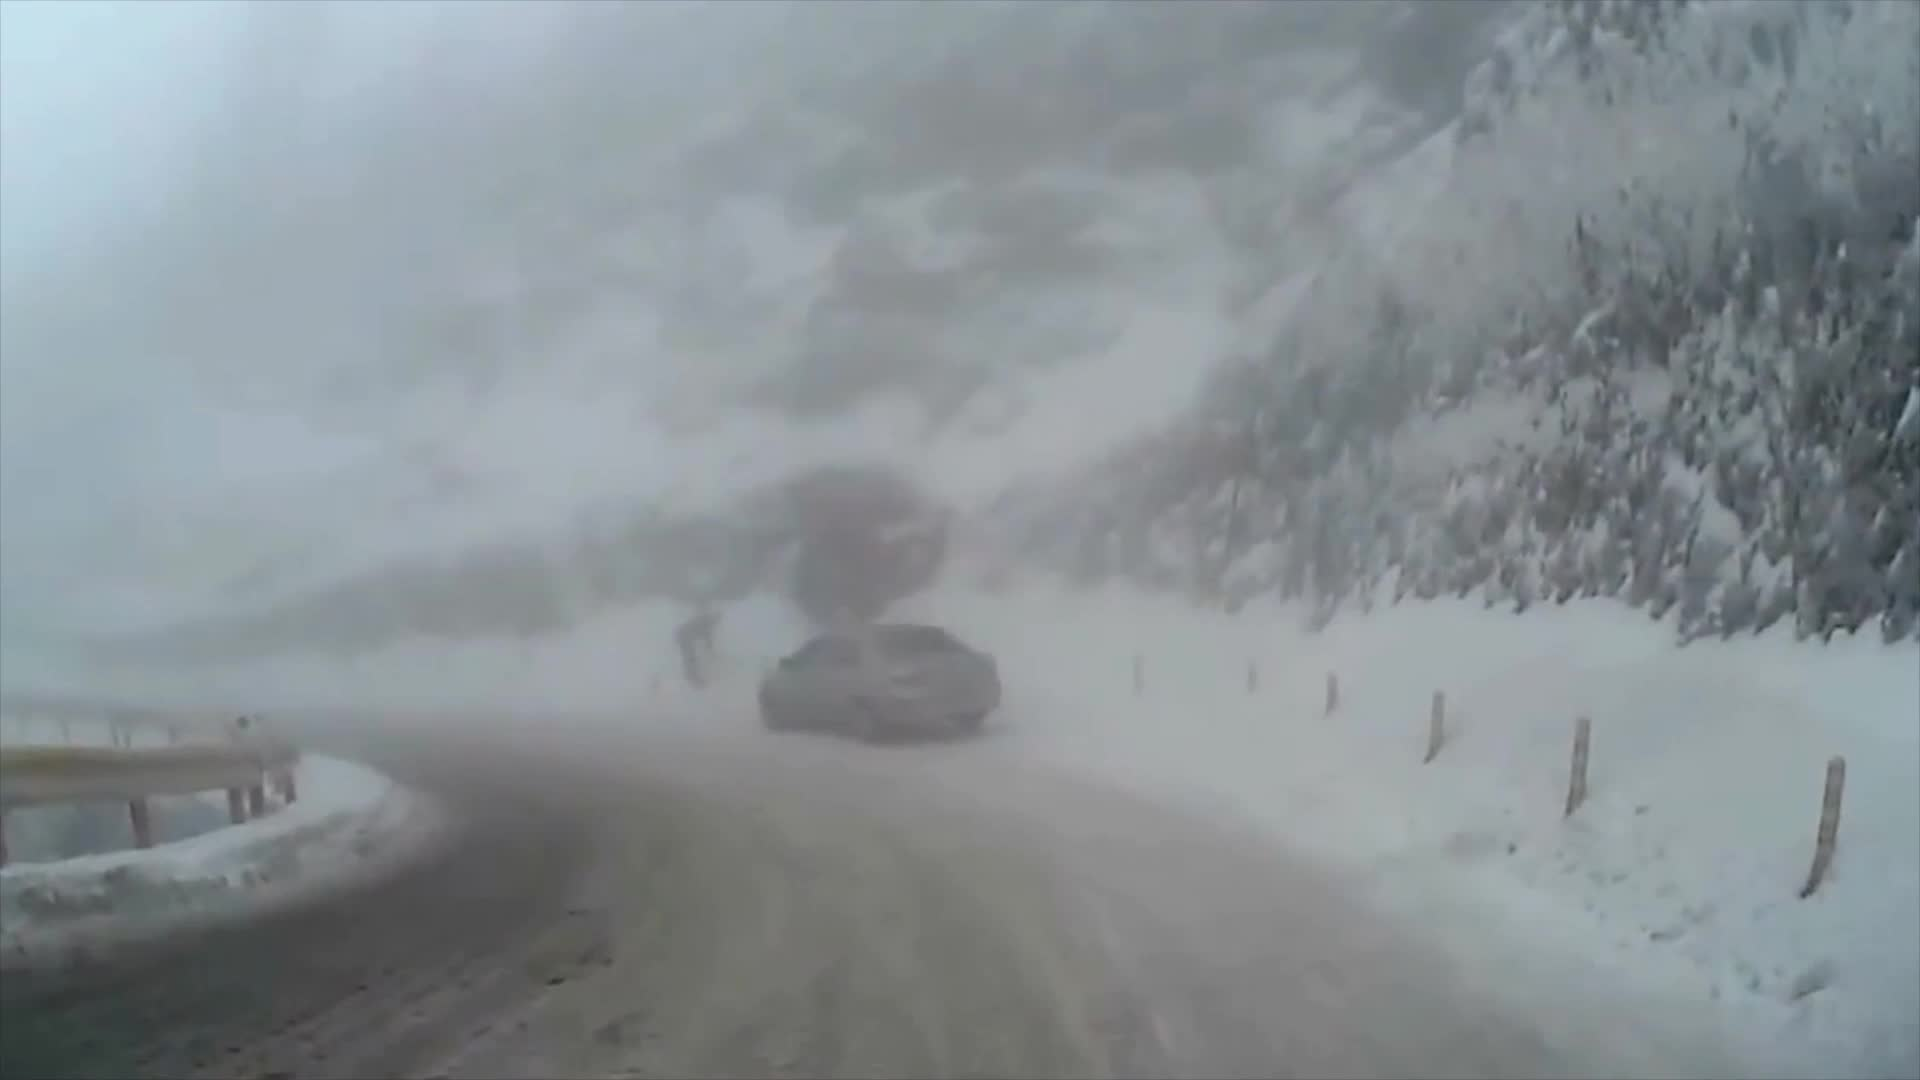pedestrian: (678, 614, 722, 696)
vehicle: (760, 628, 1003, 751)
